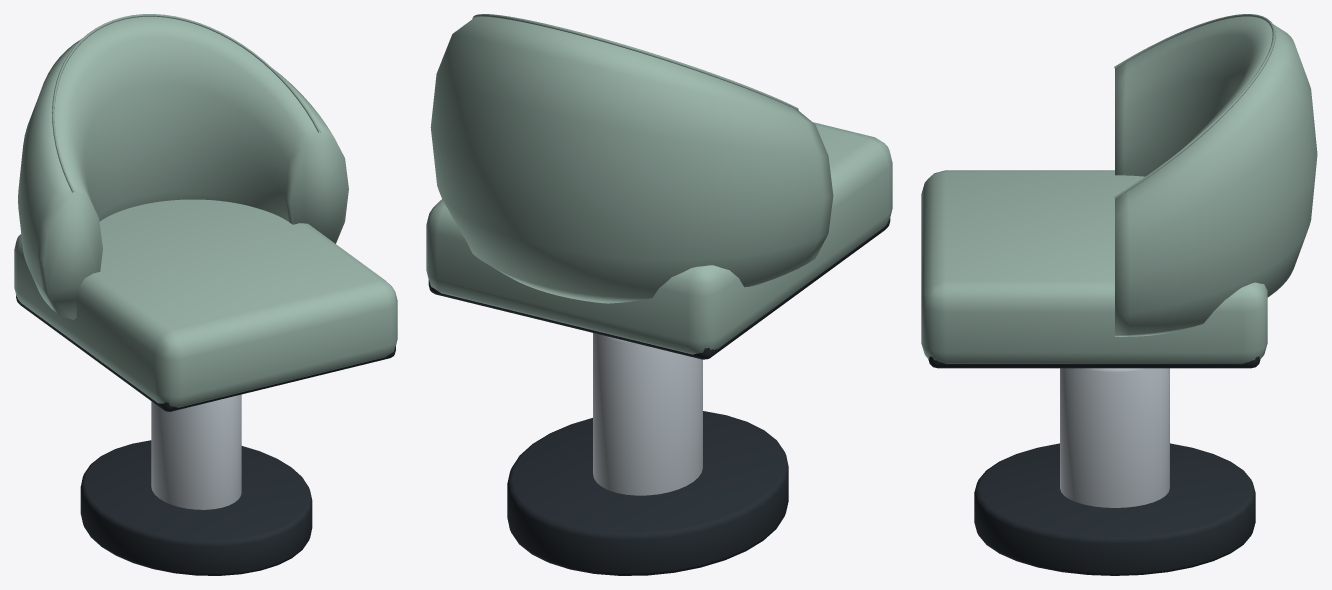
The model's file is upholstered-dining-chair.glb.
The picture shows the model from 3 angles, left to right: view 1: azimuth 30°, elevation 25°; view 2: azimuth 150°, elevation 25°; view 3: azimuth 270°, elevation 25°; orthographic projection. The views are drawn at different scales.
Parts seen in each view (by area): view 1: upholstered-dining-chair; view 2: upholstered-dining-chair; view 3: upholstered-dining-chair.
Boxes of the visible parts, x1,y1,x2,y2 form: upholstered-dining-chair: [14, 14, 397, 575]; upholstered-dining-chair: [426, 14, 892, 575]; upholstered-dining-chair: [921, 14, 1317, 575].
Size of the model in its own units: 0.56 by 0.8 by 0.58.
